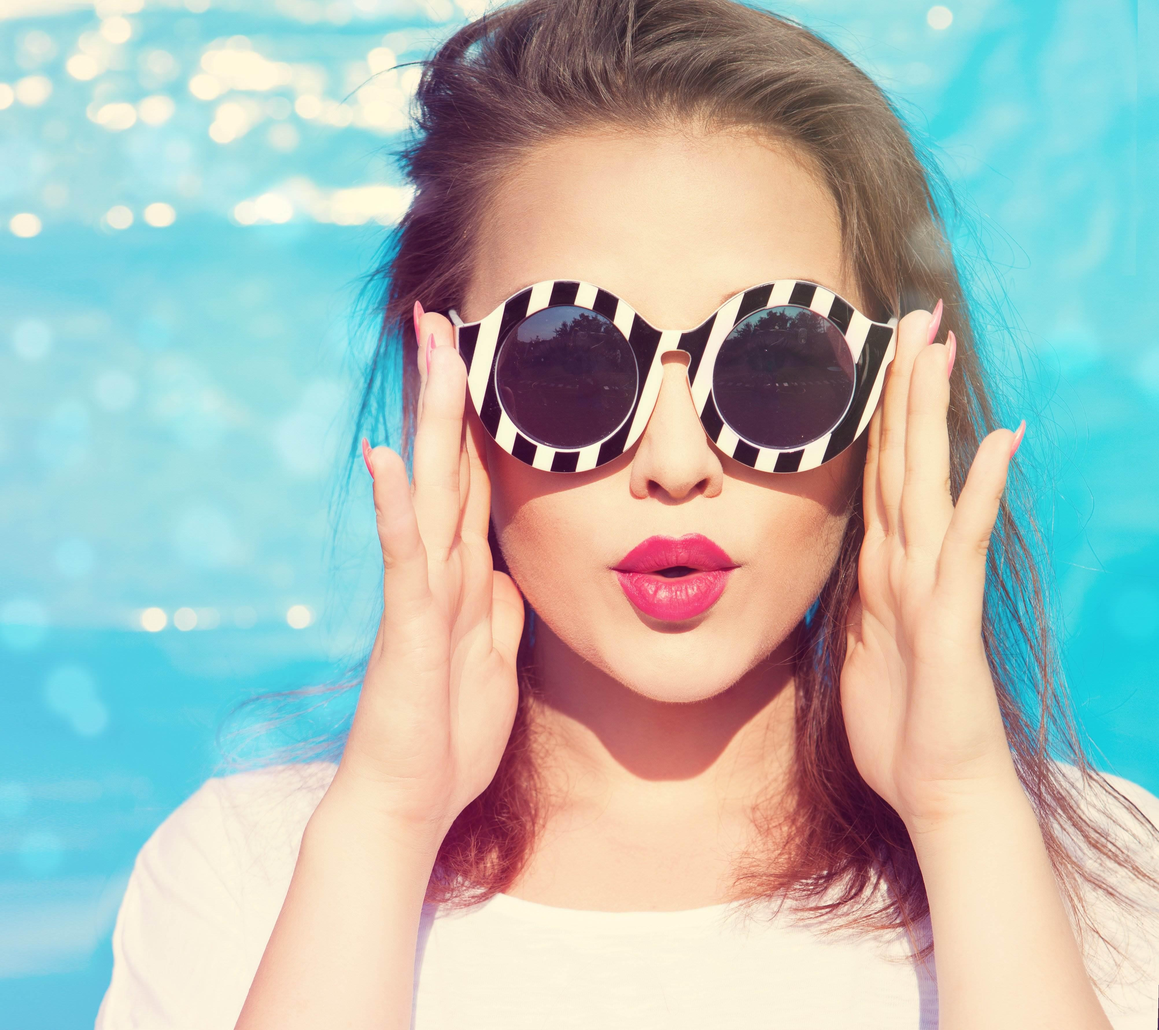sunglasses: (416, 234, 914, 498)
